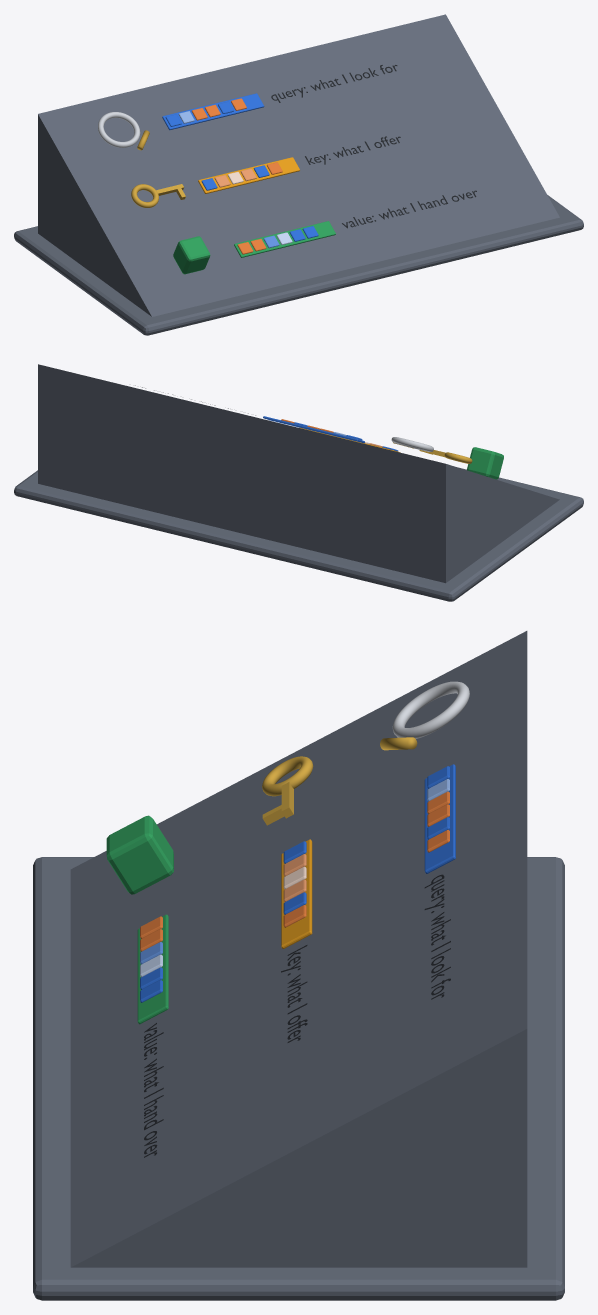
File: qkv.glb
3 views of the same model, one above another, from view 1: azimuth 30°, elevation 25°; view 2: azimuth 150°, elevation 25°; view 3: azimuth 270°, elevation 25° (orthographic). The views are drawn at different scales.
Visible parts, largest first — view 1: slope, stand, bar, b, bar.001, bar.002, rim, bow, lbl.002, lbl, t2; view 2: slope, stand, b, bar; view 3: slope, stand, b, rim, bar, bow, bar.001, bar.002, lbl.002, lbl, t2.
Part boxes in pixels (bbox=[...]): slope: bbox=[38, 14, 559, 316]; stand: bbox=[14, 195, 583, 335]; bar: bbox=[162, 93, 264, 130]; b: bbox=[173, 236, 210, 274]; bar.001: bbox=[198, 157, 299, 193]; bar.002: bbox=[234, 221, 335, 257]; rim: bbox=[98, 112, 140, 147]; bow: bbox=[131, 184, 185, 207]; lbl.002: bbox=[342, 190, 476, 228]; lbl: bbox=[271, 65, 397, 102]; t2: bbox=[191, 98, 246, 120]; slope: bbox=[38, 364, 559, 583]; stand: bbox=[14, 467, 583, 601]; b: bbox=[467, 447, 503, 479]; bar: bbox=[263, 416, 364, 443]; slope: bbox=[70, 631, 527, 1267]; stand: bbox=[33, 857, 564, 1300]; b: bbox=[106, 815, 173, 894]; rim: bbox=[392, 681, 469, 738]; bar: bbox=[424, 764, 455, 873]; bow: bbox=[262, 756, 313, 825]; bar.001: bbox=[281, 839, 312, 948]; bar.002: bbox=[137, 914, 168, 1024]; lbl.002: bbox=[144, 1023, 163, 1157]; lbl: bbox=[424, 874, 450, 999]; t2: bbox=[427, 791, 449, 852].
Size of the model in its own units: 1.35 by 0.38 by 0.7062.
